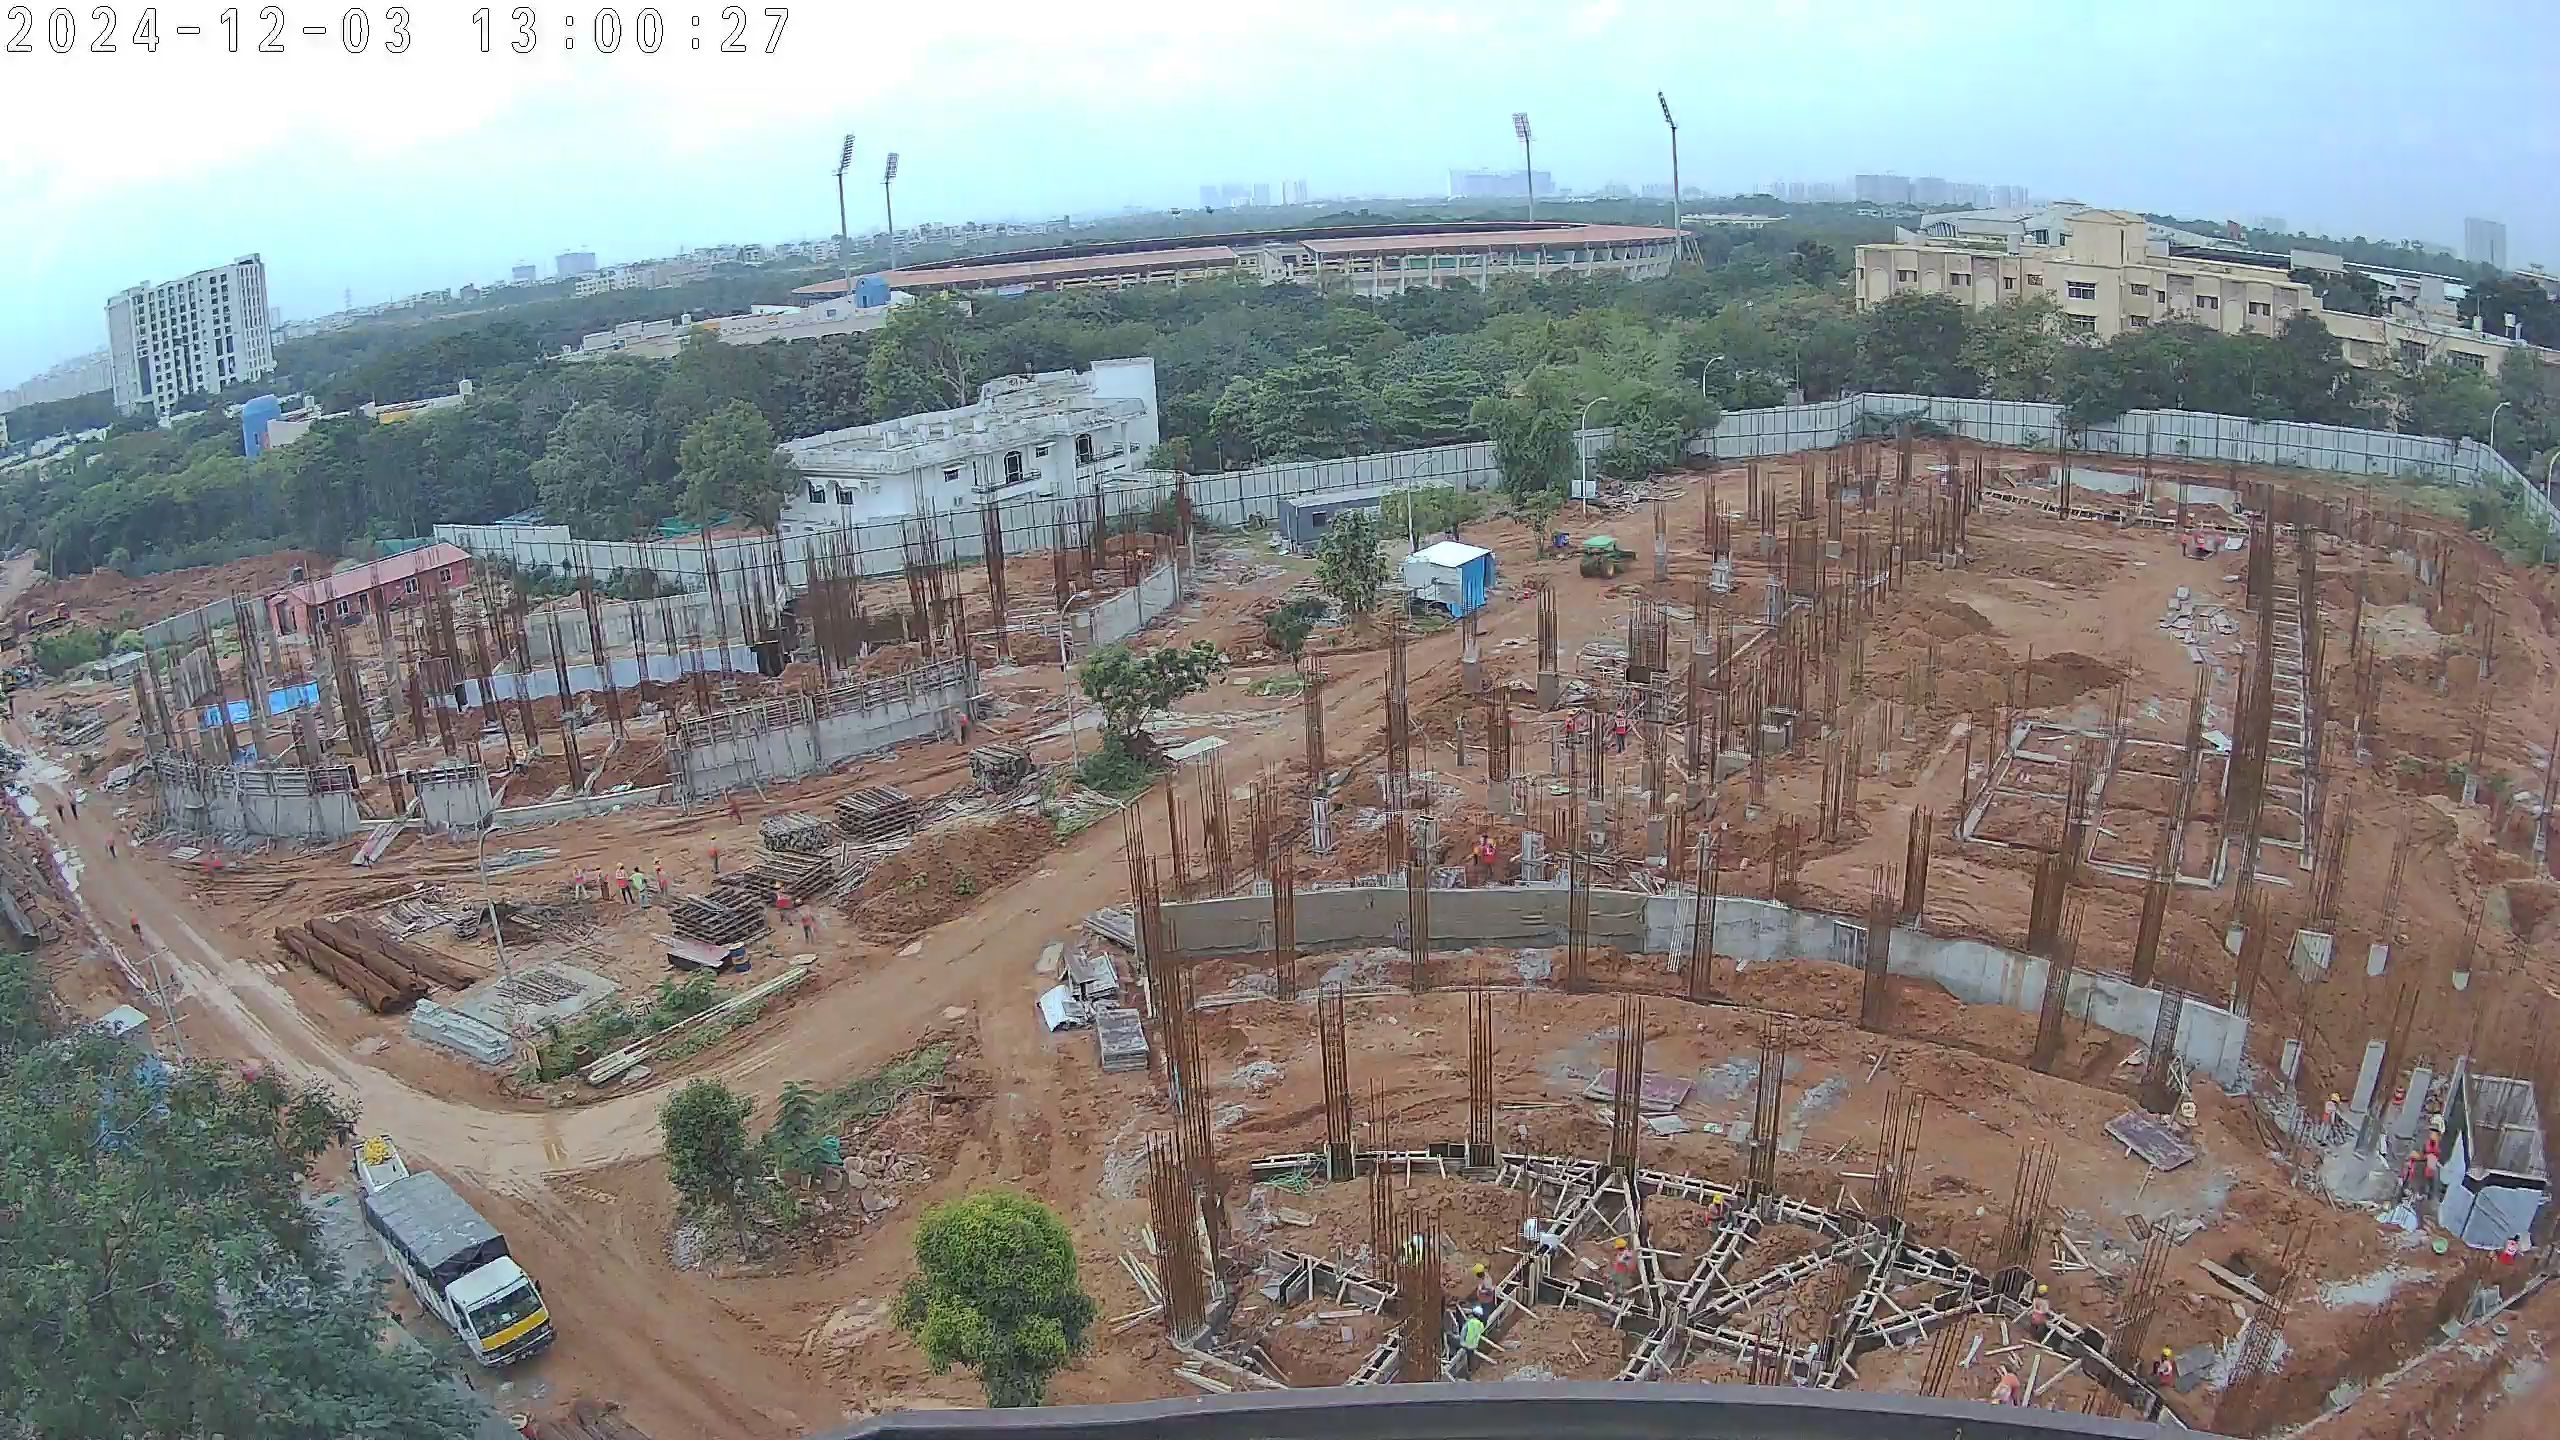bulldozer: (1577, 531, 1639, 583)
truck: (360, 1164, 558, 1381)
worker: (2024, 1275, 2056, 1360), (1458, 1301, 1488, 1370), (2493, 1225, 2525, 1289), (1470, 837, 1504, 885), (2150, 1340, 2182, 1389), (1608, 1235, 1635, 1293), (1699, 1186, 1733, 1232), (1469, 1260, 1499, 1311), (772, 883, 798, 930), (706, 829, 727, 881), (2320, 1085, 2341, 1136), (629, 865, 652, 911), (2397, 1150, 2419, 1197), (650, 854, 671, 899), (796, 908, 820, 946), (569, 861, 591, 902), (614, 858, 632, 906), (1606, 704, 1625, 747), (593, 860, 612, 903), (2421, 1125, 2444, 1160), (954, 705, 972, 749), (126, 904, 145, 945), (2422, 1154, 2438, 1198), (100, 828, 120, 861), (65, 787, 82, 823), (50, 798, 67, 824), (2179, 527, 2192, 560), (2196, 529, 2208, 560)
